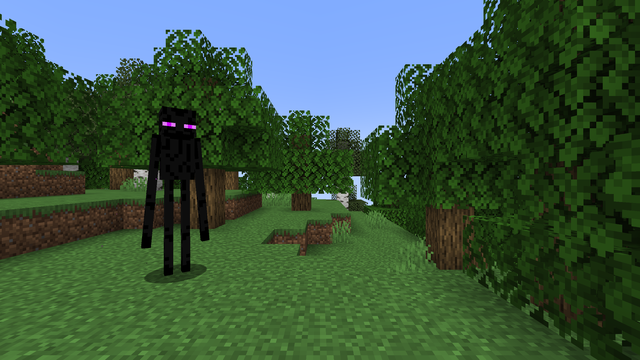endermens: (148, 101, 201, 278)
